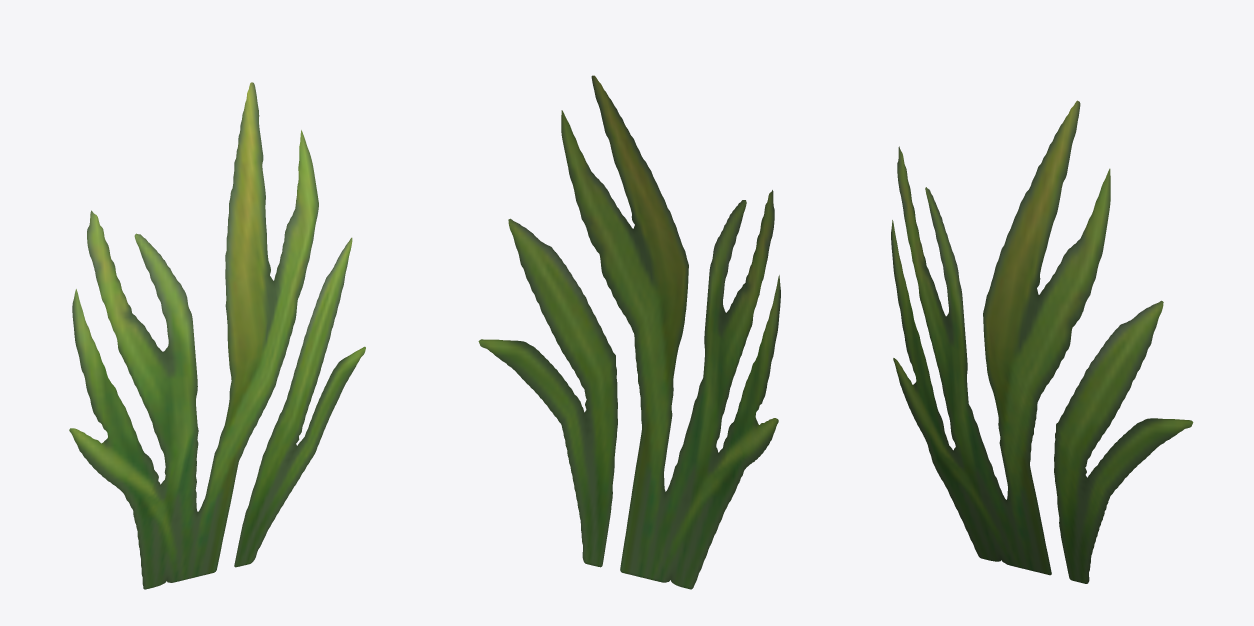
Rendered from grass_10.FBX.
3 views of the same model, side by side, from view 1: azimuth 30°, elevation 25°; view 2: azimuth 150°, elevation 25°; view 3: azimuth 330°, elevation 25° (orthographic).
Visible parts, largest first — view 1: Plane066; view 2: Plane066; view 3: Plane066.
Part boxes in pixels (x1,y1,x2,y2): Plane066: (69,82,365,589); Plane066: (478,75,780,589); Plane066: (891,100,1193,583).
Size of the model in its own units: 161 by 203 by 32.47.
Materials: 1 (1 with a texture image).
